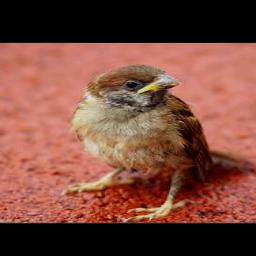Sparrow: (57, 63, 256, 221)
